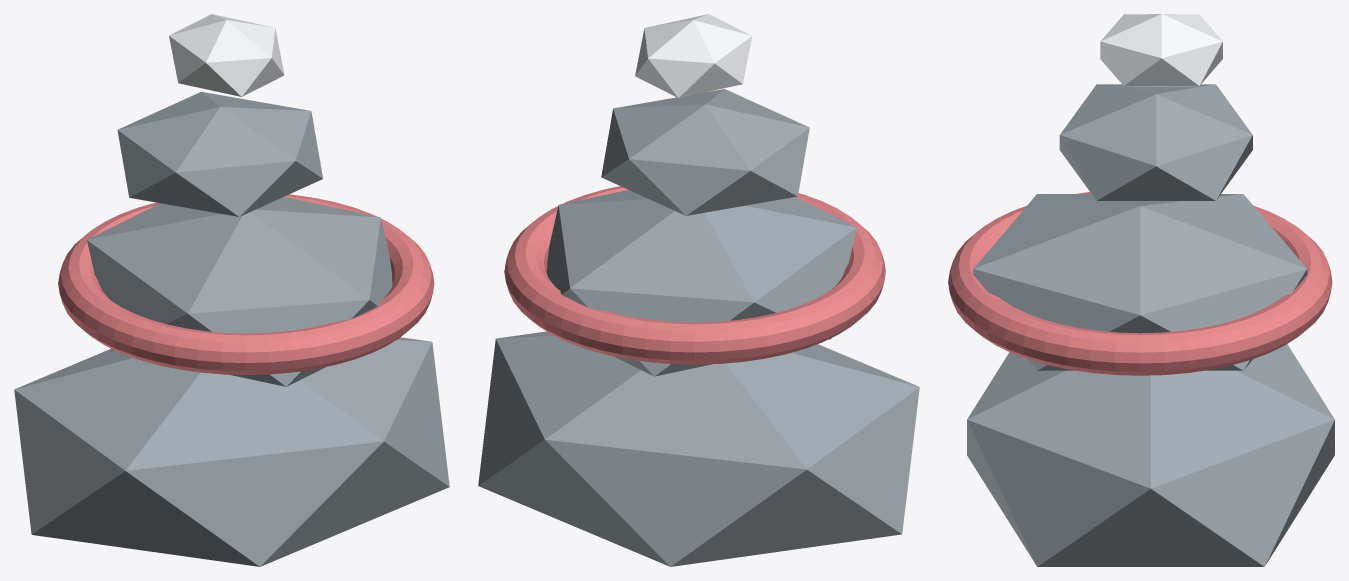
File: cairn.glb
3 views of the same model, side by side, from view 1: azimuth 30°, elevation 25°; view 2: azimuth 150°, elevation 25°; view 3: azimuth 270°, elevation 25° (orthographic). The views are drawn at different scales.
Visible parts, largest first — view 1: cairn; view 2: cairn; view 3: cairn.
Boxes of the visible parts, <box> form: cairn: <box>14,14,449,566</box>; cairn: <box>478,14,919,566</box>; cairn: <box>948,14,1334,566</box>.
Size of the model in its own units: 0.8855 by 1.1 by 0.7245.
